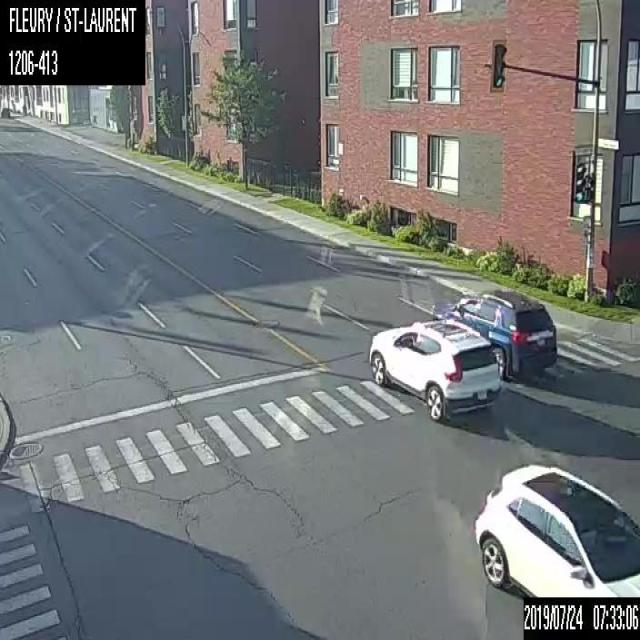vehicle: (473, 461, 639, 596), (365, 322, 501, 422), (432, 289, 556, 381)
